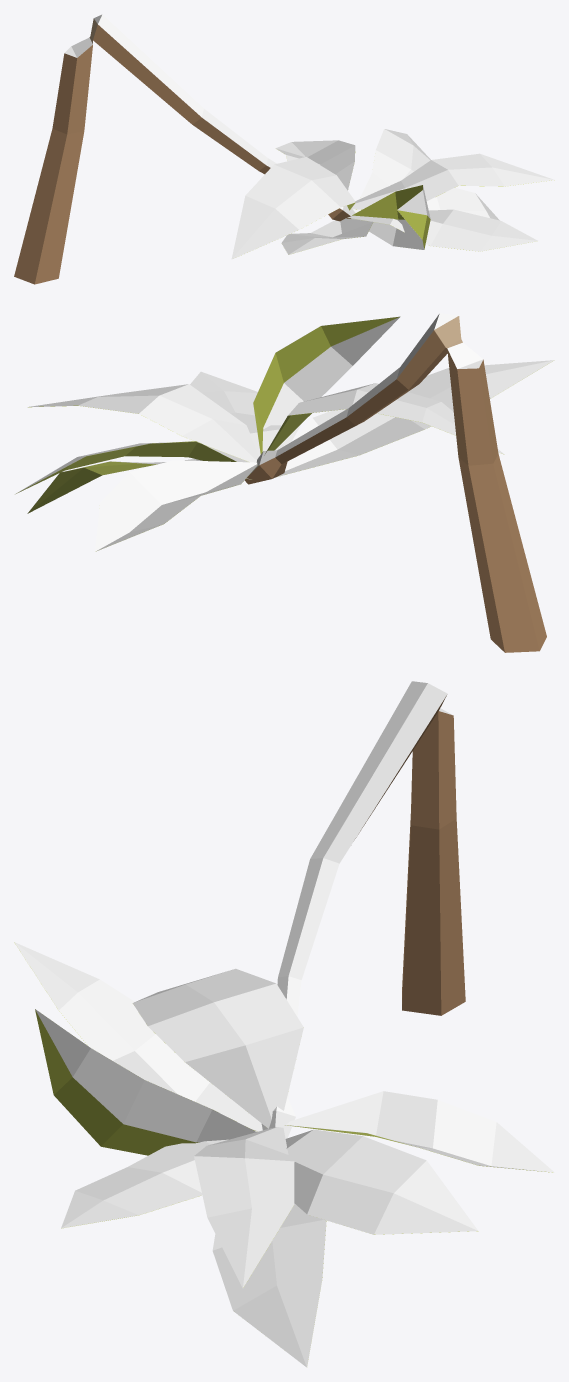
The model's file is Palm_Tree_crk_l_Snow_03.fbx.
3 views of the same model, one above another, from view 1: azimuth 30°, elevation 25°; view 2: azimuth 150°, elevation 25°; view 3: azimuth 270°, elevation 25° (orthographic). The views are drawn at different scales.
Visible parts, largest first — view 1: Palm_Tree_crk_l_Snow_03; view 2: Palm_Tree_crk_l_Snow_03; view 3: Palm_Tree_crk_l_Snow_03.
Boxes of the visible parts, x1,y1,x2,y2 form: Palm_Tree_crk_l_Snow_03: (14, 14, 554, 284); Palm_Tree_crk_l_Snow_03: (15, 313, 554, 652); Palm_Tree_crk_l_Snow_03: (14, 681, 554, 1367).
Bounding box in the file's own units: 672 × 378 × 445.
